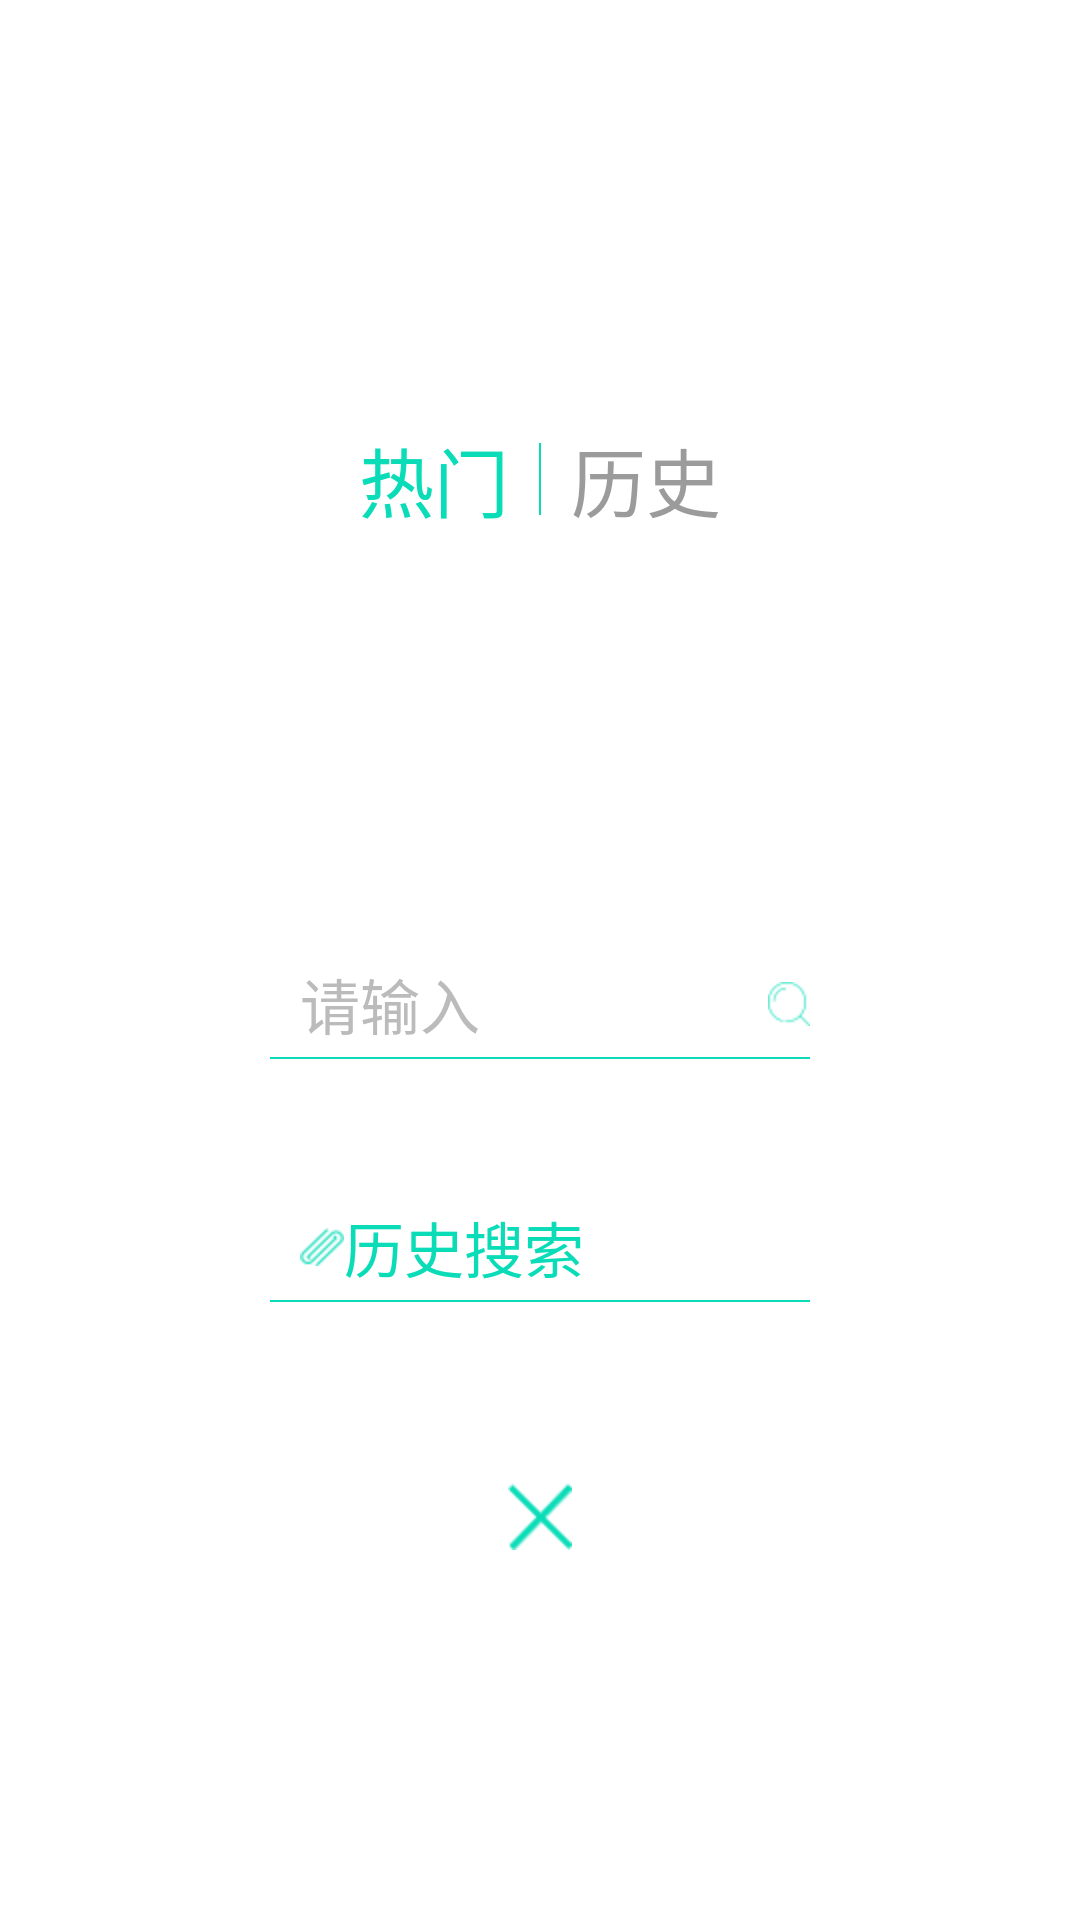

Screen size 1080 x 1920. Icon name, then its box in pixels as (x1, y1, x2, y2):
cancle xx: (508, 1484, 572, 1550)
